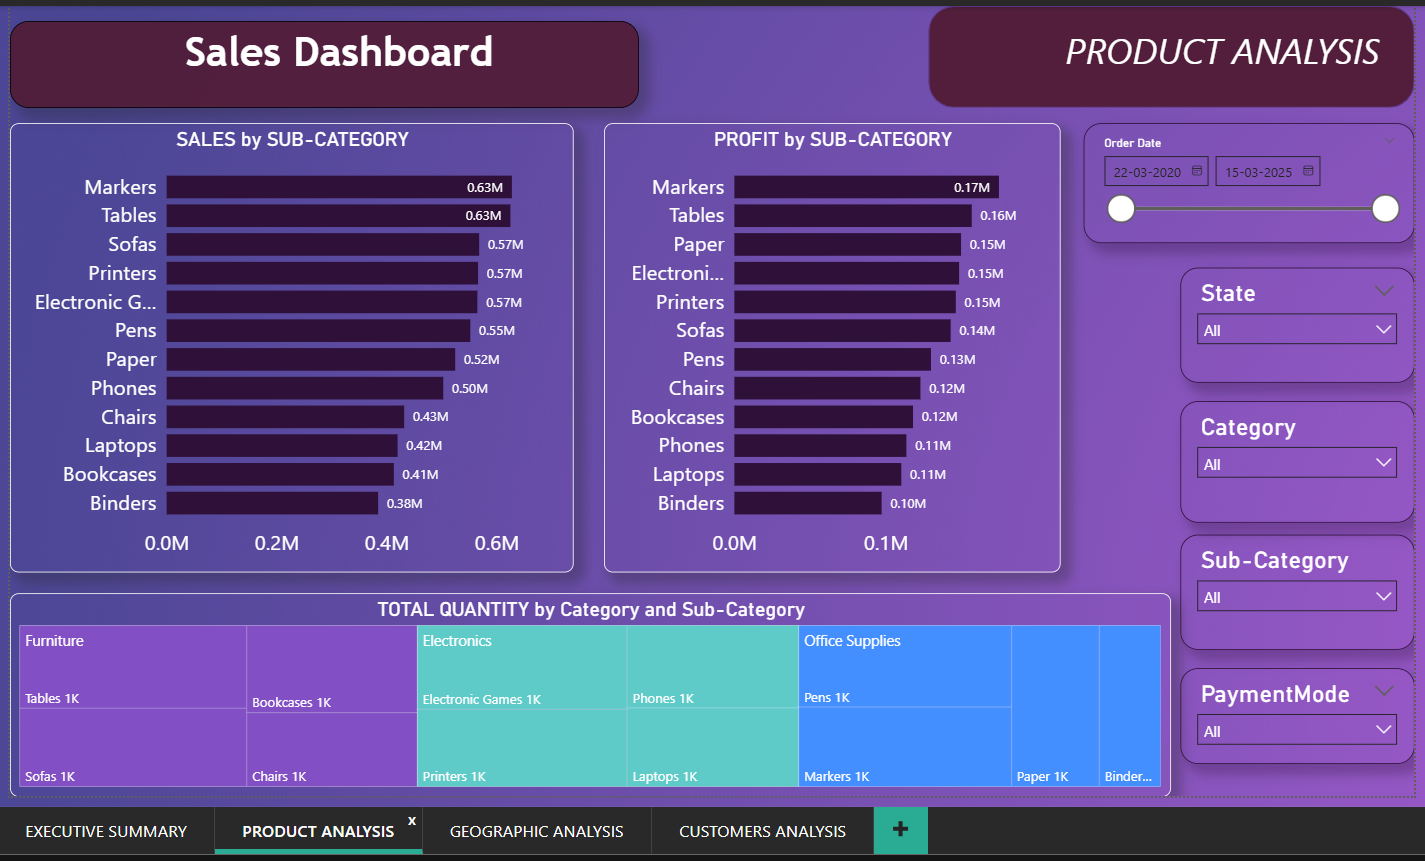

Layout of this report page (visuals, bound fields, positions):
{"tool":"powerbi","page":{"name":"PRODUCT ANALYSIS","canvas":[1280,720],"ordinal":1},"visuals":[{"type":"textbox","box":[0,13.4,573.2,79],"z":0},{"type":"slicer","fields":{"Values":["Sales Dataset.Order Date"]},"box":[978.1,106.7,302,109.4],"z":9000},{"type":"slicer","fields":{"Values":["Sales Dataset.Category"]},"box":[1066.7,360.2,213.3,110.8],"z":10000},{"type":"slicer","fields":{"Values":["Sales Dataset.Sub-Category"]},"box":[1066.7,482.1,213.3,105.3],"z":11000},{"type":"slicer","fields":{"Values":["Sales Dataset.State"]},"box":[1066.7,238.3,213.3,105.3],"z":12000},{"type":"slicer","fields":{"Values":["Sales Dataset.PaymentMode"]},"box":[1066.7,604,213.3,87.3],"z":13000},{"type":"shape","box":[836.8,0,443.3,92.8],"z":14000},{"type":"textbox","box":[786.2,13.2,467.4,54.5],"z":15000},{"type":"clusteredBarChart","title":"SALES by SUB-CATEGORY","fields":{"Category":["Sales Dataset.Sub-Category"],"Y":["Sales Dataset.TOTAL SALES"]},"box":[0,107.4,513.7,409.6],"z":15001},{"type":"clusteredBarChart","title":"PROFIT by SUB-CATEGORY","fields":{"Category":["Sales Dataset.Sub-Category"],"Y":["Sum(Sales Dataset.Profit)"]},"box":[541.8,107.4,416.2,409.6],"z":15002},{"type":"treemap","fields":{"Group":["Sales Dataset.Category"],"Details":["Sales Dataset.Sub-Category"],"Values":["Sales Dataset.TOTAL QUANTITY"]},"box":[0,534.8,1058.4,185.6],"z":15003}]}

Visuals, with their boxes on the page's 1280x720 design canvas (x1, y1, x2, y2). These are canvas units, not pixel positions in the 1425x861 screenshot, which may show the page scaled, cropped or inside an application window:
textbox: locate(0, 13, 573, 92)
slicer - Sales Dataset.Order Date: locate(978, 107, 1280, 216)
slicer - Sales Dataset.Category: locate(1067, 360, 1280, 471)
slicer - Sales Dataset.Sub-Category: locate(1067, 482, 1280, 587)
slicer - Sales Dataset.State: locate(1067, 238, 1280, 344)
slicer - Sales Dataset.PaymentMode: locate(1067, 604, 1280, 691)
shape: locate(837, 0, 1280, 93)
textbox: locate(786, 13, 1254, 68)
"SALES by SUB-CATEGORY" clusteredBarChart: locate(0, 107, 514, 517)
"PROFIT by SUB-CATEGORY" clusteredBarChart: locate(542, 107, 958, 517)
treemap - Sales Dataset.Category x Sales Dataset.Sub-Category: locate(0, 535, 1058, 720)
